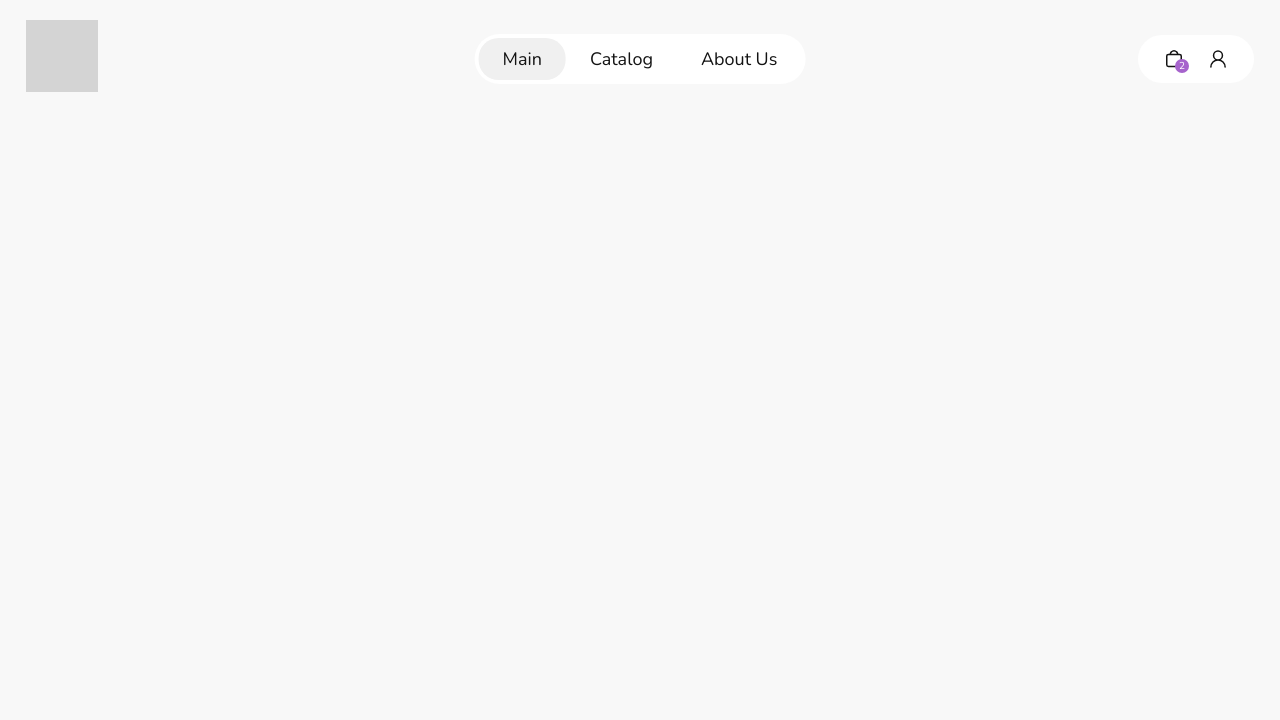
Scenario: Header component › closes profile dropdown when clicking outside
The image size is (1280, 720).
Click the button named "profile menu" at (1218, 59), box [1206,47,1230,71]
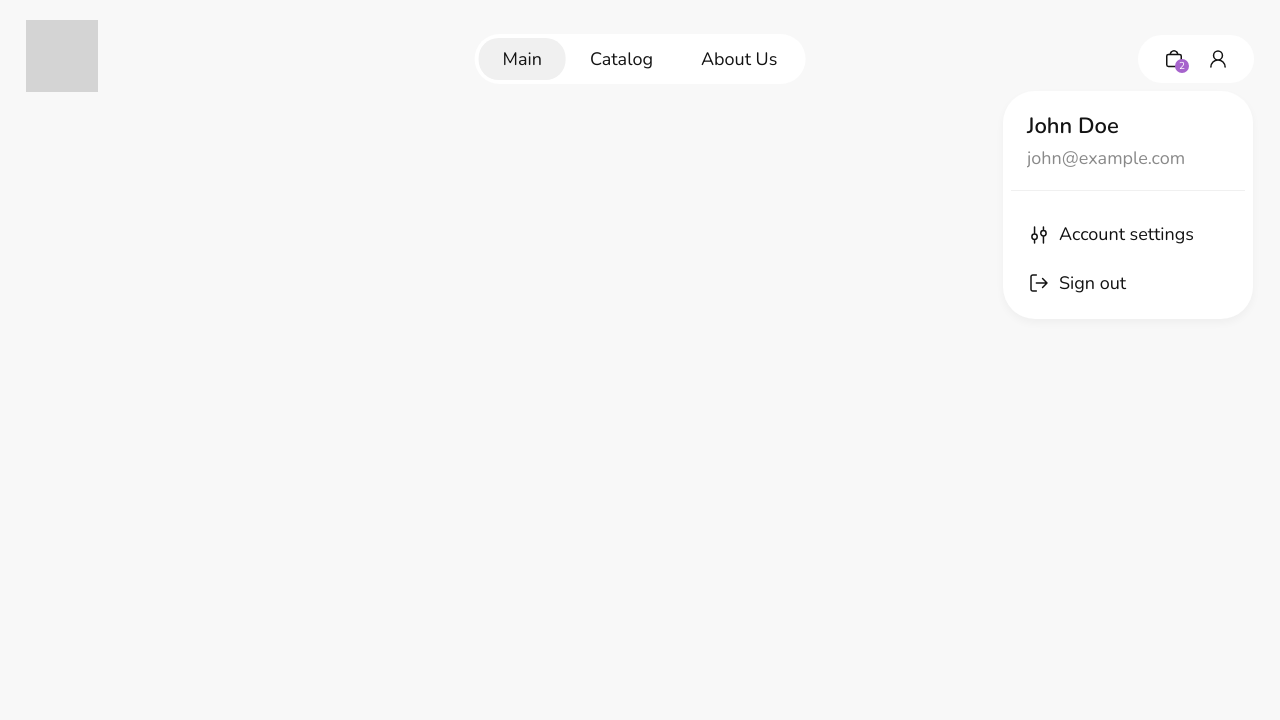
Check: the text "John Doe" is shown, box [1027,111,1119,141]
Press the mouse on the element that starts with "Main" at (640, 360), box [0,0,1279,719]
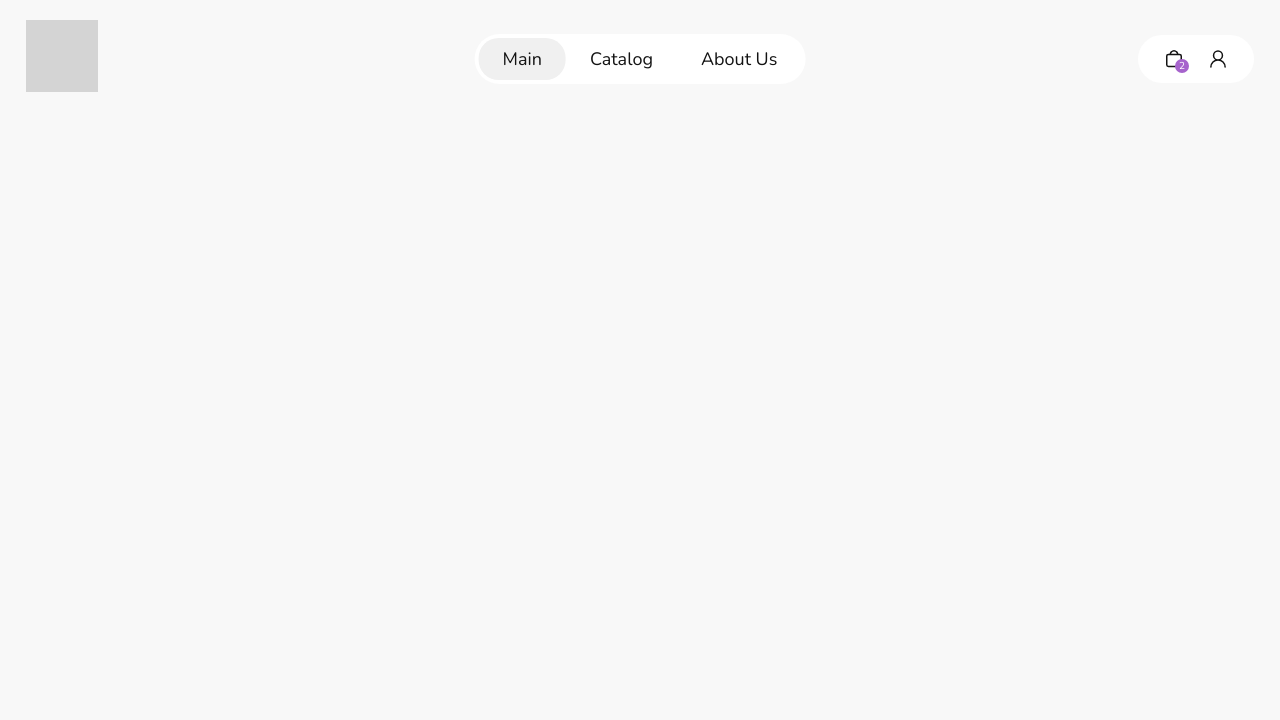
Check: the text "John Doe" is gone
